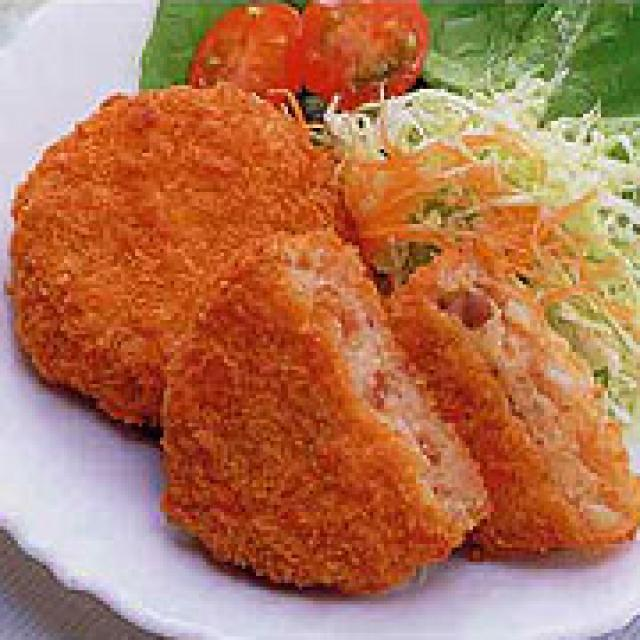炸货点心: (0, 75, 640, 608)
